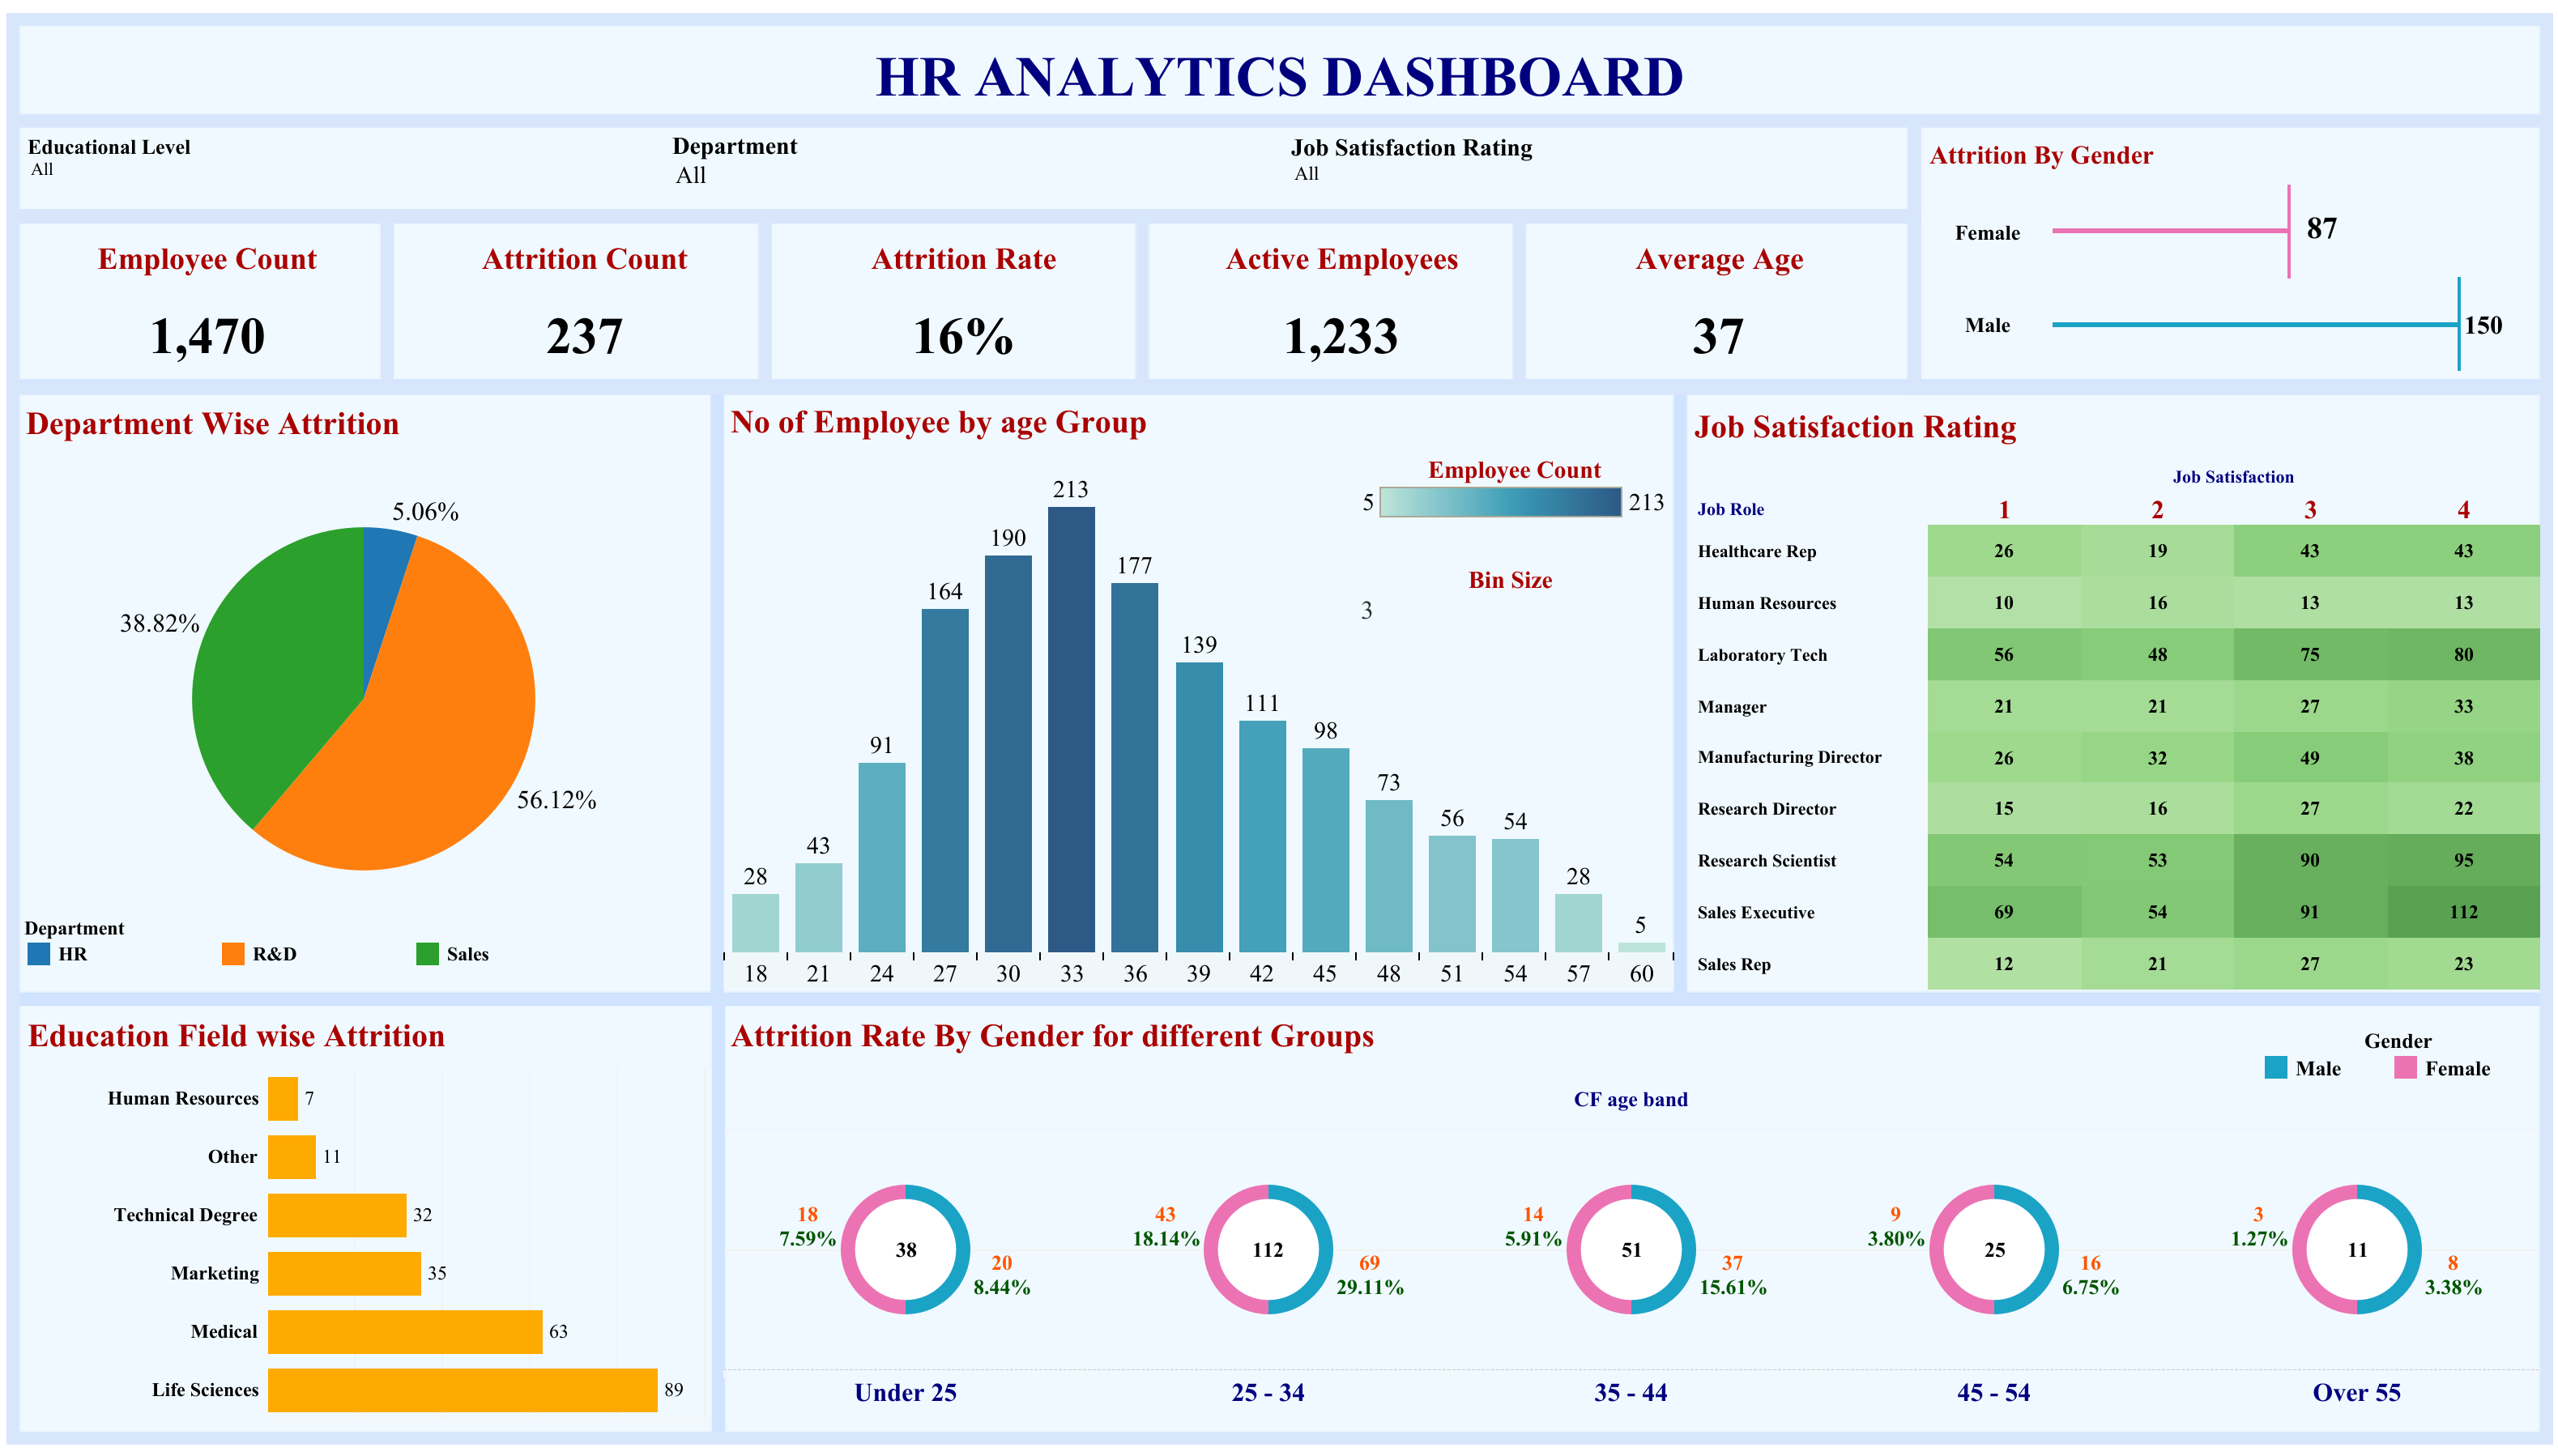

The page's visual inventory and layout, read from the dashboard file:
{"tool":"tableau","page":{"name":"HR ANALYTICS DASHBOARD","canvas":[1580,900],"ordinal":0},"visuals":[{"type":"image","param":"C:/Users/anujs/OneDrive/Desktop/HR_Analytics_Dashboard.twb Files/Image/TB A.png","box":[0,0,1580,900]},{"type":"text","box":[13,19,1554,56]},{"type":"filter","title":"Department Wise Attrition","param":"[federated.0cedjv7167paa514sad3510vpa39].[none:Department:nk]","box":[415,80,375,48]},{"type":"worksheet","title":"Attrition By Gender","mark":"Automatic","rows":["Gender"],"cols":["Calculation_1501106118720778240","Calculation_1501106118720778240"],"box":[1187,80,380,149]},{"type":"filter","title":"Job Satisfaction Rating","param":"[federated.0cedjv7167paa514sad3510vpa39].[none:Job Satisfaction:ok]","box":[797,81,377,47]},{"type":"filter","title":"Attrition By Gender","param":"[federated.0cedjv7167paa514sad3510vpa39].[none:Education:nk]","box":[17,82,393,45]},{"type":"worksheet","title":"KPI","mark":"Automatic","box":[12,140,1166,94]},{"type":"worksheet","title":"No of Employee by age Group","mark":"Automatic","rows":["Employee Count"],"cols":["Age (bin)"],"box":[447,243,586,367]},{"type":"worksheet","title":"Department Wise Attrition","mark":"Pie","box":[12,244,425,337]},{"type":"worksheet","title":"Job Satisfaction Rating","mark":"Square","rows":["Job Role"],"cols":["Job Satisfaction"],"box":[1042,246,526,365]},{"type":"legend","title":"No of Employee by age Group","param":"[federated.0cedjv7167paa514sad3510vpa39].[sum:Employee Count:qk]","box":[837,277,196,49]},{"type":"parameter","param":"[Parameters].[Parameter 1]","box":[838,348,189,99]},{"type":"legend","title":"Department Wise Attrition","param":"[federated.0cedjv7167paa514sad3510vpa39].[none:Department:nk]","box":[14,564,421,46]},{"type":"worksheet","title":"Education Field wise Attrition","mark":"Automatic","rows":["Education Field"],"cols":["Calculation_1501106118720778240"],"box":[13,622,425,262]},{"type":"worksheet","title":"Attrition Rate By Gender for different Groups","mark":"Pie","rows":["Calculation_1501106118755565572","Calculation_1501106118755565572"],"cols":["CF_age band"],"box":[447,622,1120,263]},{"type":"legend","title":"Attrition Rate By Gender for different Groups","param":"[federated.0cedjv7167paa514sad3510vpa39].[none:Gender:nk]","box":[1395,633,169,56]}]}

Visuals, with their boxes in screenshot pixels (x1, y1, x2, y2), scaled from the page's 1580x900 canvas onto the 2558x1456 screenshot:
image: [left=0, top=0, right=2557, bottom=1455]
text: [left=21, top=31, right=2537, bottom=121]
"Department Wise Attrition" filter: [left=671, top=130, right=1279, bottom=207]
"Attrition By Gender" worksheet: [left=1921, top=130, right=2537, bottom=370]
"Job Satisfaction Rating" filter: [left=1290, top=131, right=1901, bottom=207]
"Attrition By Gender" filter: [left=28, top=133, right=663, bottom=206]
"KPI" worksheet: [left=19, top=227, right=1908, bottom=378]
"No of Employee by age Group" worksheet: [left=723, top=393, right=1673, bottom=987]
"Department Wise Attrition" worksheet (Pie marks): [left=19, top=394, right=707, bottom=940]
"Job Satisfaction Rating" worksheet (Square marks): [left=1687, top=398, right=2539, bottom=989]
"No of Employee by age Group" legend: [left=1355, top=448, right=1673, bottom=527]
parameter: [left=1357, top=563, right=1663, bottom=723]
"Department Wise Attrition" legend: [left=23, top=913, right=704, bottom=987]
"Education Field wise Attrition" worksheet: [left=21, top=1007, right=709, bottom=1430]
"Attrition Rate By Gender for different Groups" worksheet (Pie marks): [left=723, top=1007, right=2537, bottom=1432]
"Attrition Rate By Gender for different Groups" legend: [left=2258, top=1024, right=2532, bottom=1114]
